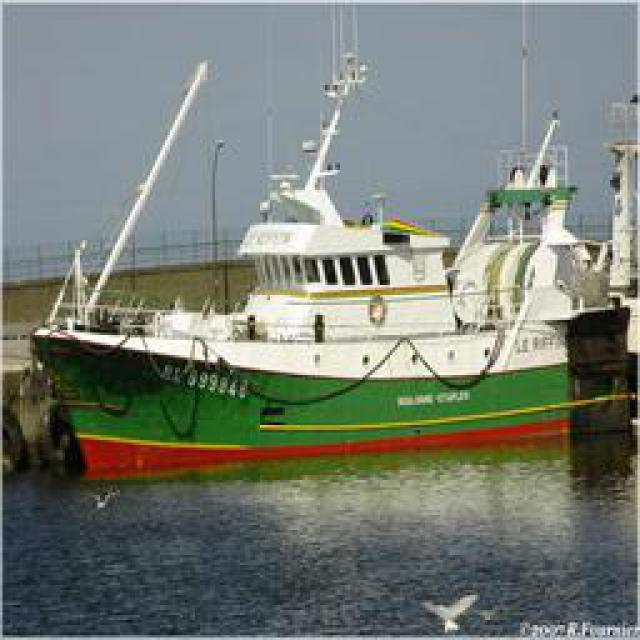Ship: (33, 28, 618, 456)
